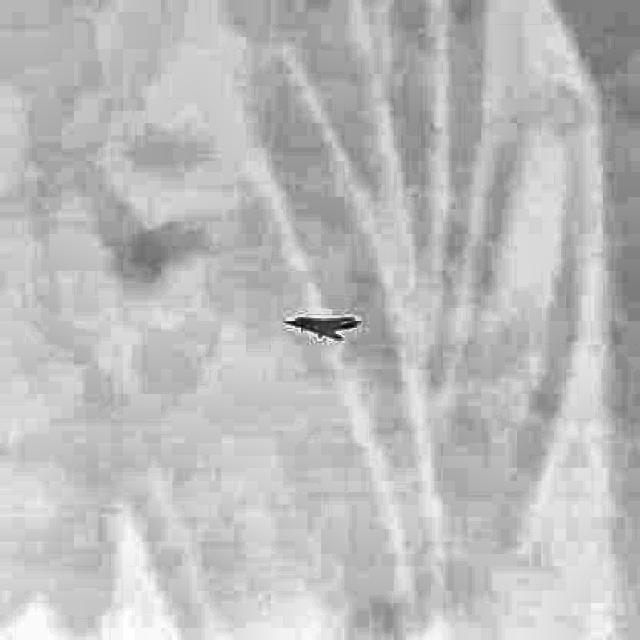F117: (283, 317, 362, 340)
